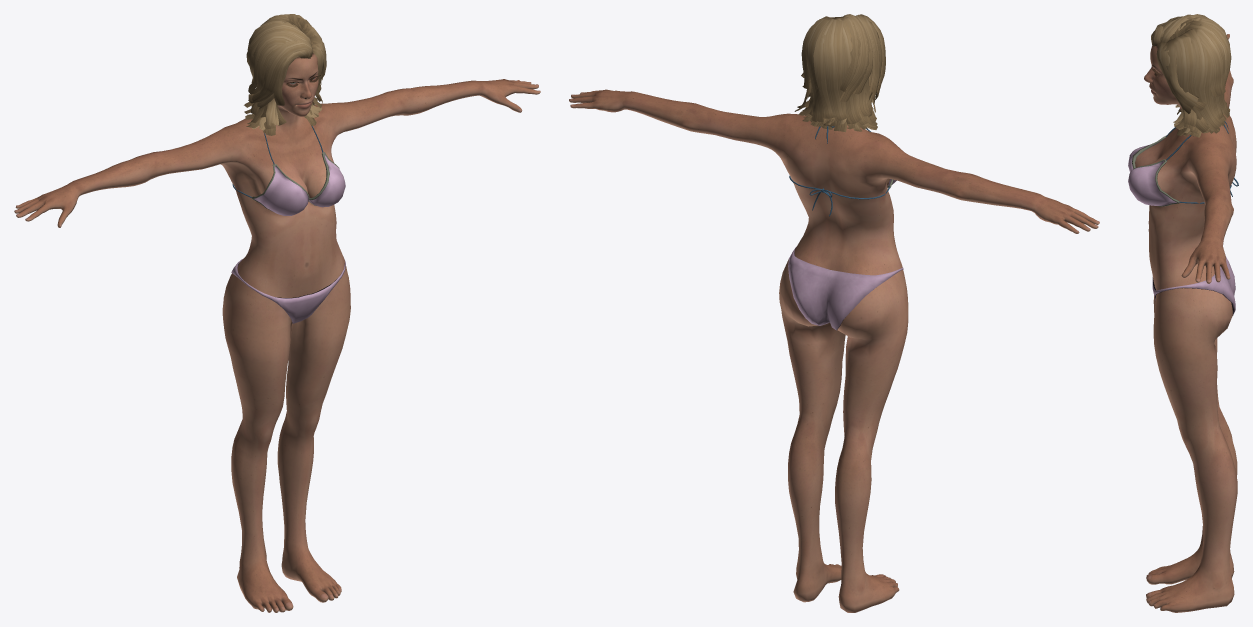
The model's file is girl001.obj.
3 renders of one model, left to right at view 1: azimuth 30°, elevation 25°; view 2: azimuth 150°, elevation 25°; view 3: azimuth 270°, elevation 25°, orthographic.
Parts seen in each view (by area): view 1: Body, Hair, Tops, Bottoms; view 2: Body, Hair, Bottoms; view 3: Body, Hair, Tops, Bottoms.
Part boxes in pixels (x1,y1,x2,y2): Body: [14, 53, 540, 612]; Hair: [244, 14, 326, 135]; Tops: [232, 125, 345, 215]; Bottoms: [231, 259, 345, 323]; Body: [569, 89, 1099, 612]; Hair: [794, 14, 885, 132]; Bottoms: [788, 247, 903, 330]; Body: [1135, 34, 1237, 612]; Hair: [1151, 14, 1231, 137]; Tops: [1128, 121, 1238, 206]; Bottoms: [1152, 256, 1235, 315].
Size of the model in its own units: 171 by 180 by 31.34.
4 materials, 4 textured.
